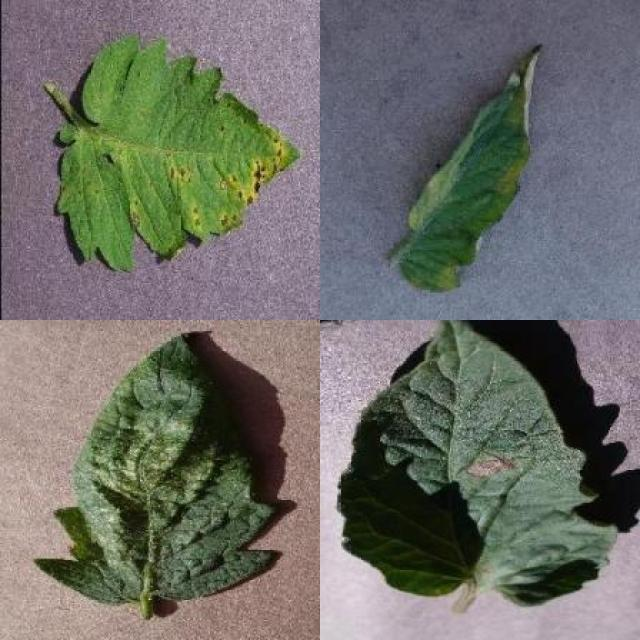Early Blight: (338, 322, 618, 608)
Leaf Mold: (402, 41, 541, 296)
Septoria: (57, 33, 300, 273)
Spider Mites: (37, 332, 272, 608)
